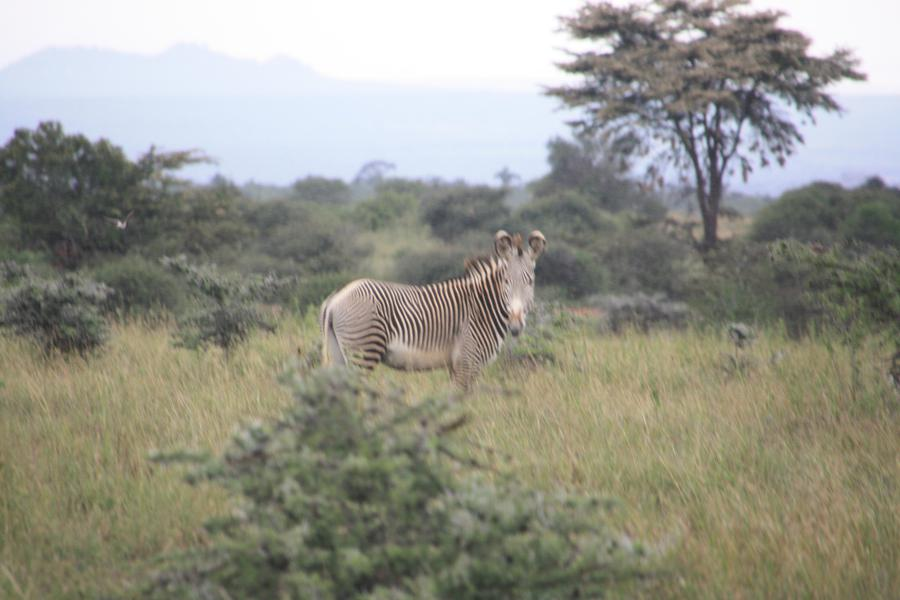zebra_grevys: (315, 267, 493, 364)
